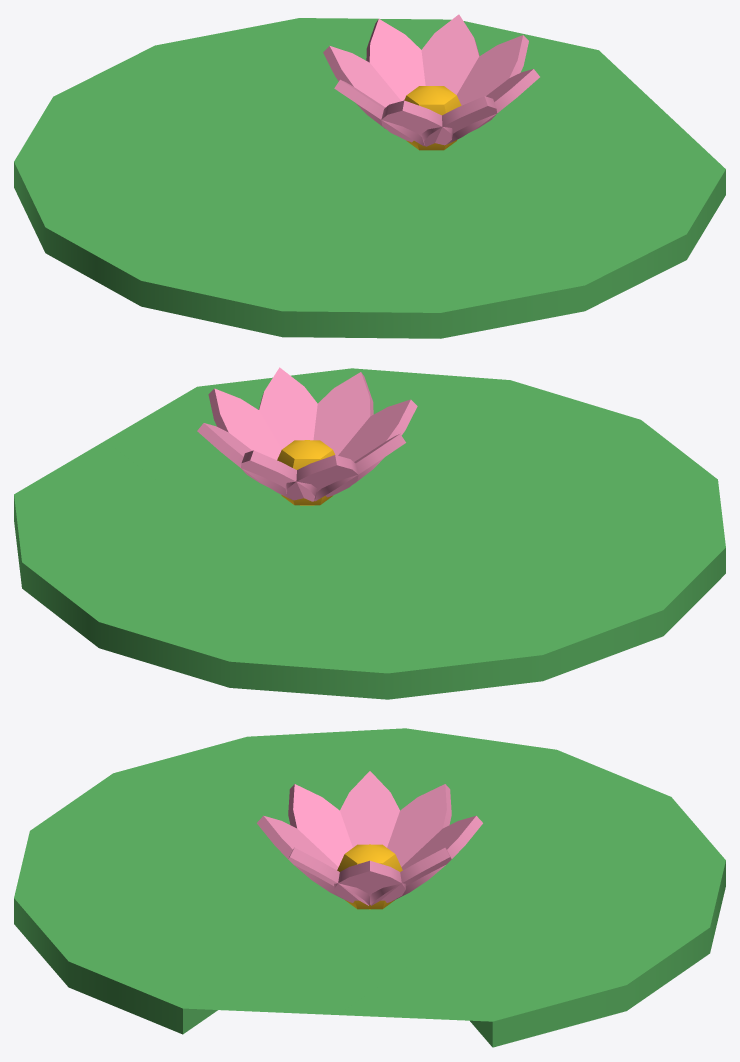
File: LilyPad.fbx
3 renders of one model, top to bottom at view 1: azimuth 30°, elevation 25°; view 2: azimuth 150°, elevation 25°; view 3: azimuth 270°, elevation 25°, orthographic.
Visible parts, largest first — view 1: LilyPad; view 2: LilyPad; view 3: LilyPad.
Part boxes in pixels (left/top/right/bottom): LilyPad: left=14, top=14, right=725, bottom=338; LilyPad: left=14, top=367, right=725, bottom=699; LilyPad: left=14, top=728, right=725, bottom=1047.
Bounding box in the file's own units: 1.93 × 0.3686 × 1.98.
Materials: 1 (1 with a texture image).
